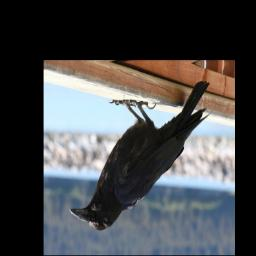Crow: (69, 77, 211, 234)
